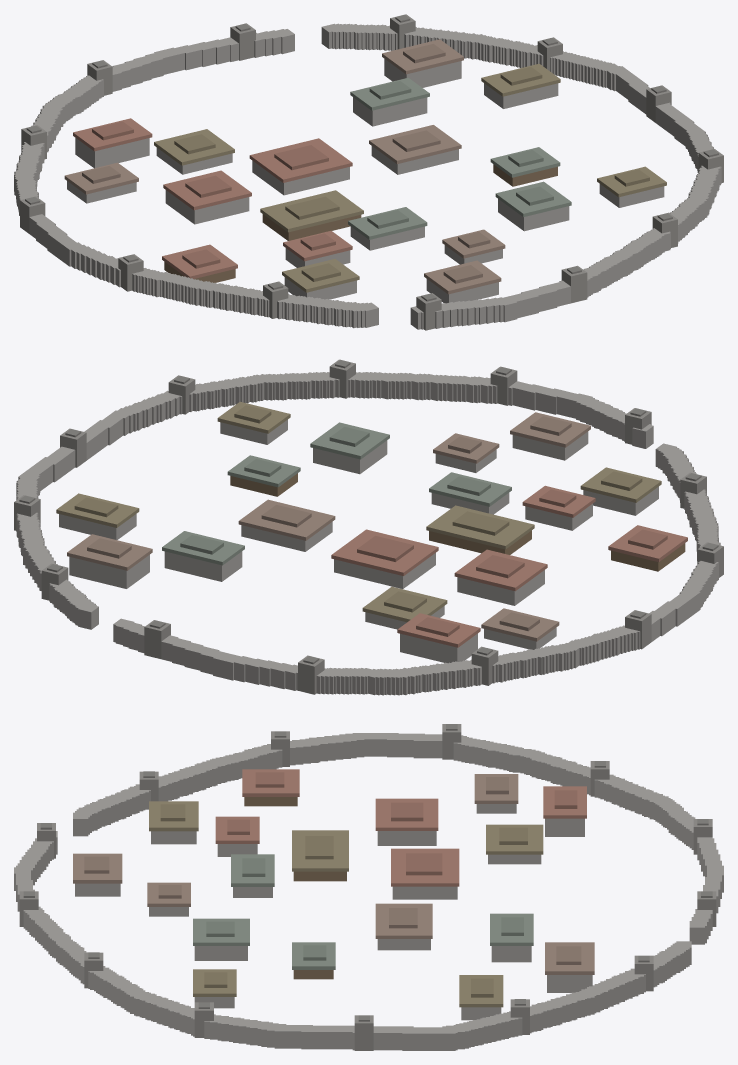
File: ciudad_ciudad_poblada_menor_933_1308_01.glb
3 views of the same model, one above another, from view 1: azimuth 30°, elevation 25°; view 2: azimuth 150°, elevation 25°; view 3: azimuth 270°, elevation 25° (orthographic). The views are drawn at different scales.
Visible parts, largest first — view 1: ciudad_ciudad_poblada_menor_933_1308; view 2: ciudad_ciudad_poblada_menor_933_1308; view 3: ciudad_ciudad_poblada_menor_933_1308.
Part boxes in pixels (<box>): ciudad_ciudad_poblada_menor_933_1308: <box>14,14,723,330</box>; ciudad_ciudad_poblada_menor_933_1308: <box>14,359,723,695</box>; ciudad_ciudad_poblada_menor_933_1308: <box>14,724,723,1050</box>.
Bounding box in the file's own units: 93.5 × 4.25 × 93.25.
